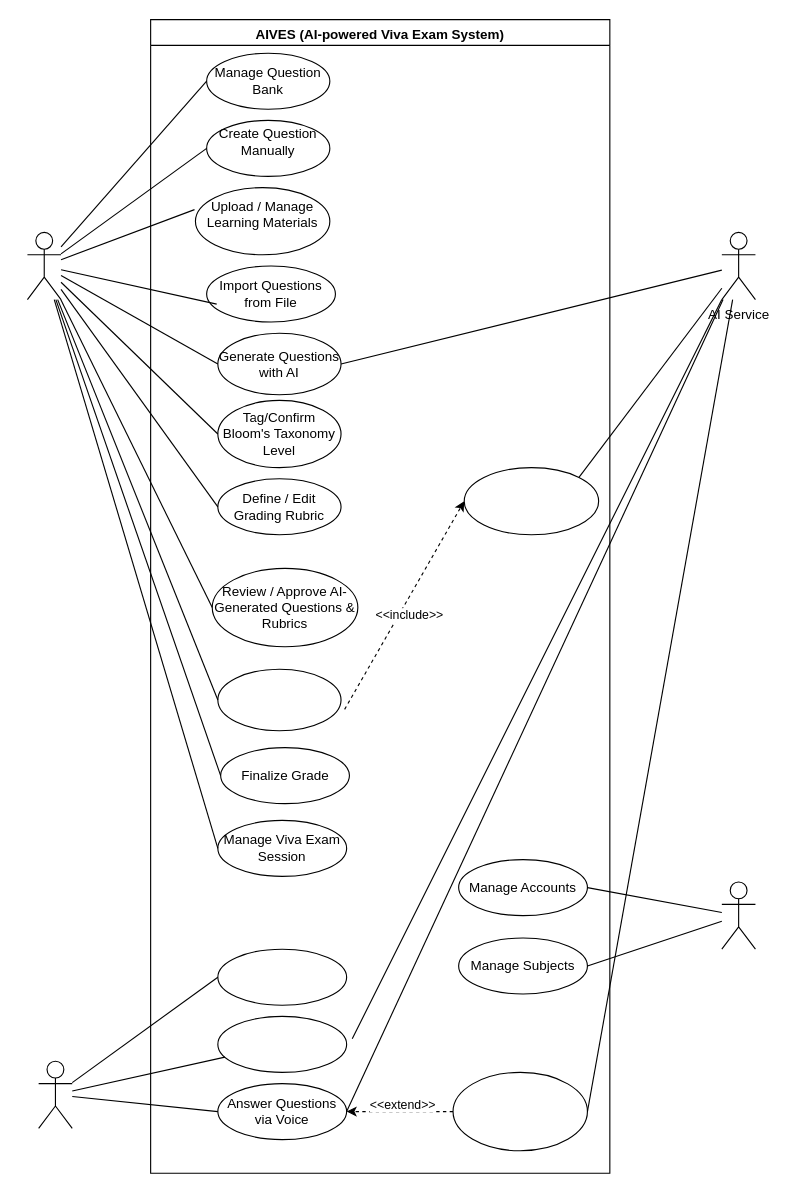
Some shapes in this 788 by 1193 pixel diagram are drawn without their labels. Each missing label, with the centre of its shape:
"Admin" goes at pixel 738 915.
"Answer Adaptive Follow-up Question" goes at pixel 519 1111.
"Join Viva Exam Session" goes at pixel 282 976.
"Lecturer" goes at pixel 43 265.
"Listen to AI voice question" goes at pixel 282 1043.
"Review Exam Transcript" goes at pixel 279 699.
"Student" goes at pixel 55 1094.
"View AI Suggested Score & Feedback" goes at pixel 531 500.
